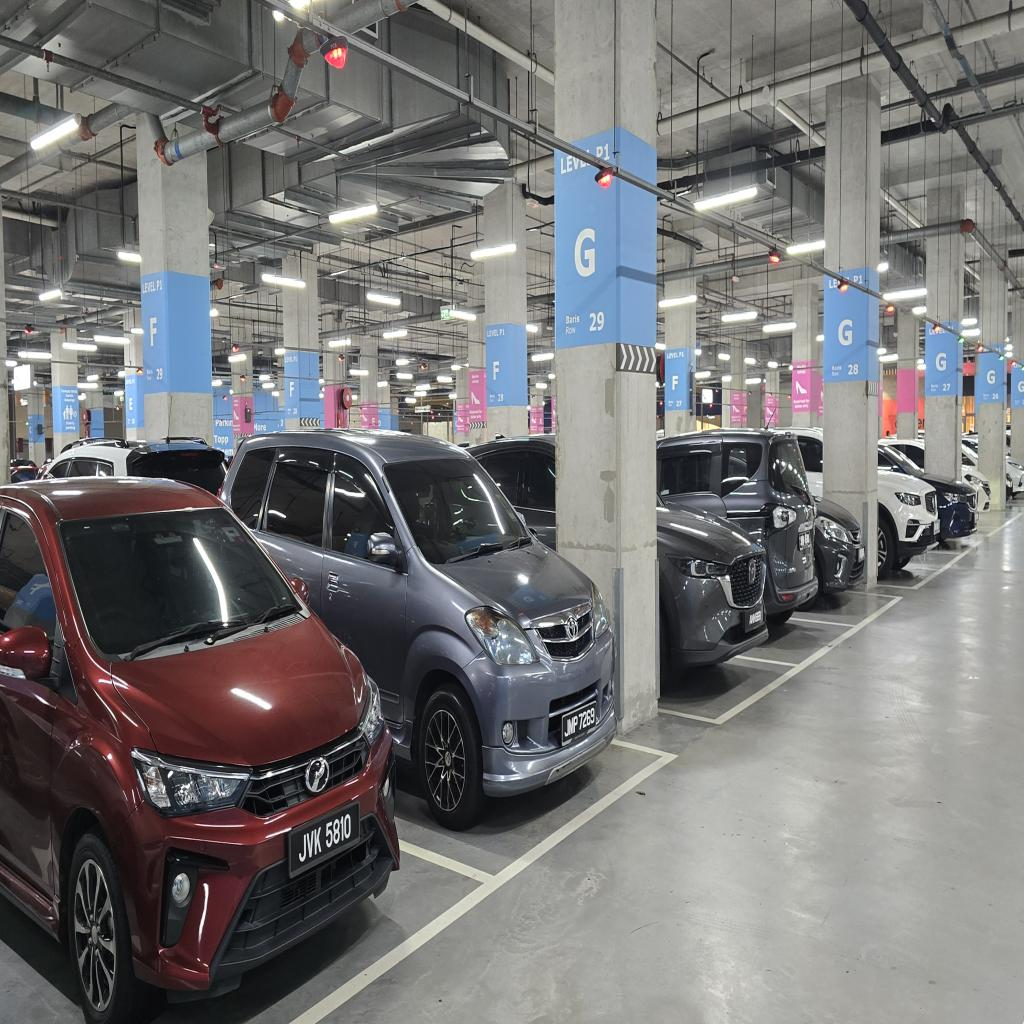car: (0, 479, 399, 1023), (222, 431, 616, 828)
car plate: (288, 802, 359, 877), (561, 700, 595, 745)
